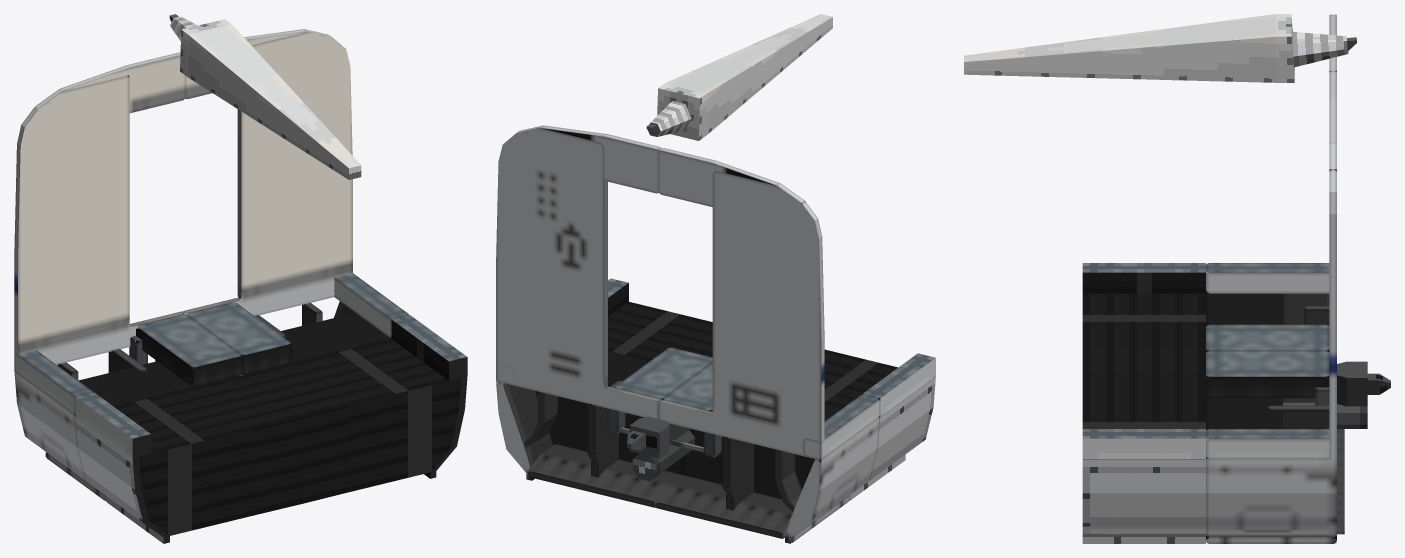
Rendered from world_tilted.obj.
3 views of the same model, side by side, from view 1: azimuth 30°, elevation 25°; view 2: azimuth 150°, elevation 25°; view 3: azimuth 270°, elevation 25° (orthographic). The views are drawn at different scales.
Parts seen in each view (by area): view 1: 端面1, 裙板-仪器舱靠近端面R, 裙板-仪器舱靠近端面L, mesh, 裙板-仪器舱R, 地板-中间, 裙板-仪器舱L, 端面2, 防雪风挡骨架, 防雪风挡骨架2; view 2: 端面1, 裙板-仪器舱R, 防雪风挡, 裙板-仪器舱靠近端面R, mesh, 裙板-仪器舱L, 端面2, 裙板-仪器舱靠近端面L, 地板-中间, 防雪风挡骨架, cylinder, 防雪风挡骨架2 (+2 smaller); view 3: 裙板-仪器舱靠近端面L, 裙板-仪器舱L, mesh, 裙板-仪器舱靠近端面R, 地板-中间, 裙板-仪器舱R, 端面1, cylinder, 半自动车钩, 防雪风挡骨架, 防雪风挡, 端面2.
Boxes of the visible parts, bbox=[...] form: 端面1: bbox=[14, 29, 352, 372]; 裙板-仪器舱靠近端面R: bbox=[75, 375, 299, 543]; 裙板-仪器舱靠近端面L: bbox=[243, 315, 467, 504]; mesh: bbox=[169, 14, 361, 179]; 裙板-仪器舱R: bbox=[14, 350, 242, 500]; 地板-中间: bbox=[136, 302, 292, 386]; 裙板-仪器舱L: bbox=[240, 273, 408, 375]; 端面2: bbox=[61, 29, 306, 113]; 防雪风挡骨架: bbox=[108, 315, 286, 372]; 防雪风挡骨架2: bbox=[57, 303, 322, 380]; 端面1: bbox=[496, 125, 824, 459]; 裙板-仪器舱R: bbox=[683, 394, 880, 543]; 防雪风挡: bbox=[527, 444, 792, 538]; 裙板-仪器舱靠近端面R: bbox=[824, 349, 935, 500]; mesh: bbox=[646, 14, 832, 140]; 裙板-仪器舱L: bbox=[496, 351, 682, 480]; 端面2: bbox=[541, 125, 779, 206]; 裙板-仪器舱靠近端面L: bbox=[608, 278, 712, 360]; 地板-中间: bbox=[615, 347, 712, 411]; 防雪风挡骨架: bbox=[587, 380, 753, 510]; cylinder: bbox=[632, 101, 694, 481]; 防雪风挡骨架2: bbox=[524, 391, 801, 512]; 裙板-仪器舱靠近端面L: bbox=[1082, 372, 1205, 543]; 裙板-仪器舱L: bbox=[1206, 396, 1336, 543]; mesh: bbox=[964, 14, 1356, 82]; 裙板-仪器舱靠近端面R: bbox=[1082, 263, 1205, 371]; 地板-中间: bbox=[1206, 324, 1329, 397]; 裙板-仪器舱R: bbox=[1206, 263, 1329, 325]; 端面1: bbox=[1329, 14, 1336, 459]; cylinder: bbox=[1283, 31, 1367, 428]; 半自动车钩: bbox=[1283, 361, 1367, 406]; 防雪风挡骨架: bbox=[1268, 405, 1329, 428]; 防雪风挡: bbox=[1337, 429, 1344, 534]; 端面2: bbox=[1329, 15, 1336, 143].
Bounding box in the file's own units: 3.38 × 4 × 3.46.
